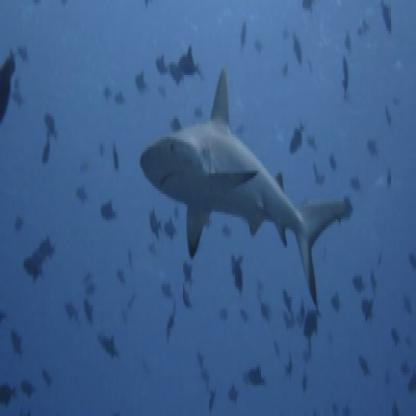shark: (141, 65, 345, 306)
